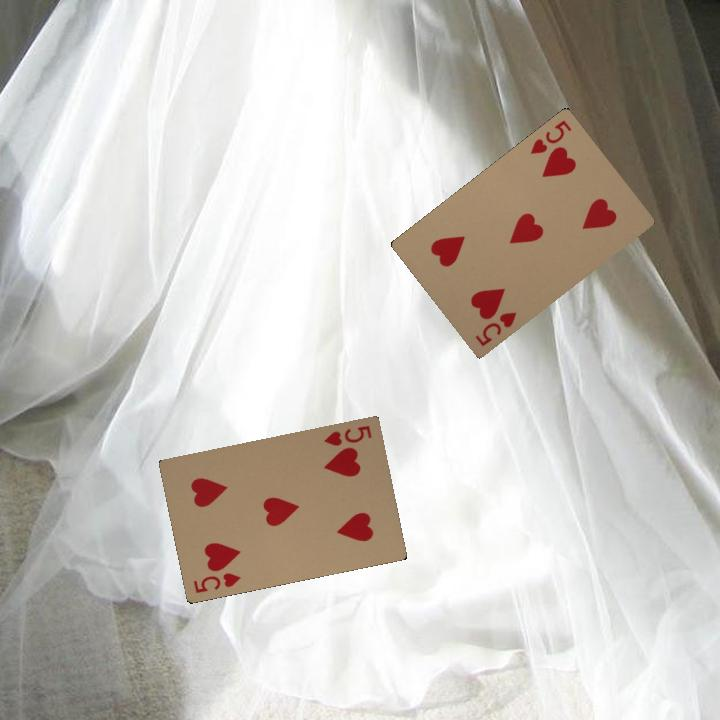5h: (526, 116, 574, 157), (471, 308, 519, 349), (320, 421, 374, 448), (189, 569, 243, 595)
